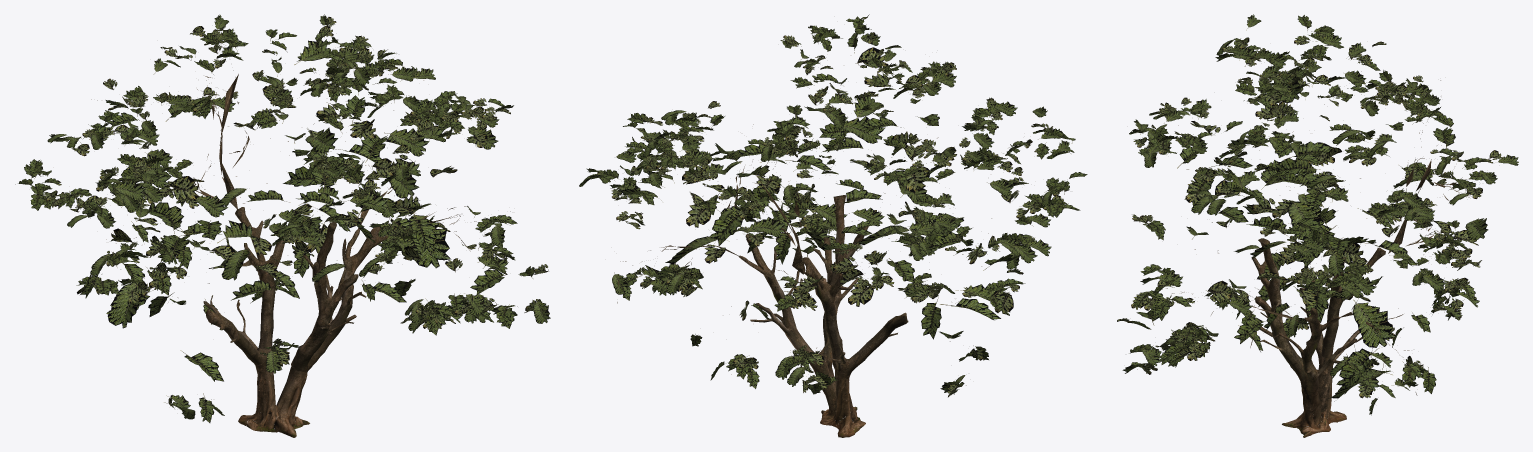
Rendered from broadleaf_tree_far.glb.
3 renders of one model, left to right at view 1: azimuth 30°, elevation 25°; view 2: azimuth 150°, elevation 25°; view 3: azimuth 270°, elevation 25°, orthographic. The views are drawn at different scales.
Parts seen in each view (by area): view 1: jacaranda_tree_LOD0, jacaranda_tree_LOD0.002, jacaranda_tree_LOD0.001; view 2: jacaranda_tree_LOD0, jacaranda_tree_LOD0.002, jacaranda_tree_LOD0.001; view 3: jacaranda_tree_LOD0, jacaranda_tree_LOD0.002, jacaranda_tree_LOD0.001.
Boxes of the visible parts, left/top/right/bottom form: jacaranda_tree_LOD0: left=15, top=14, right=550, bottom=422; jacaranda_tree_LOD0.002: left=203, top=207, right=387, bottom=437; jacaranda_tree_LOD0.001: left=74, top=30, right=521, bottom=399; jacaranda_tree_LOD0: left=579, top=14, right=1087, bottom=397; jacaranda_tree_LOD0.002: left=738, top=195, right=908, bottom=437; jacaranda_tree_LOD0.001: left=617, top=55, right=1064, bottom=389; jacaranda_tree_LOD0: left=1117, top=14, right=1518, bottom=415; jacaranda_tree_LOD0.002: left=1251, top=238, right=1385, bottom=437; jacaranda_tree_LOD0.001: left=1135, top=53, right=1473, bottom=395.
Bounding box in the file's own units: 24.45 × 19.57 × 18.95.
3 materials, 3 textured.
